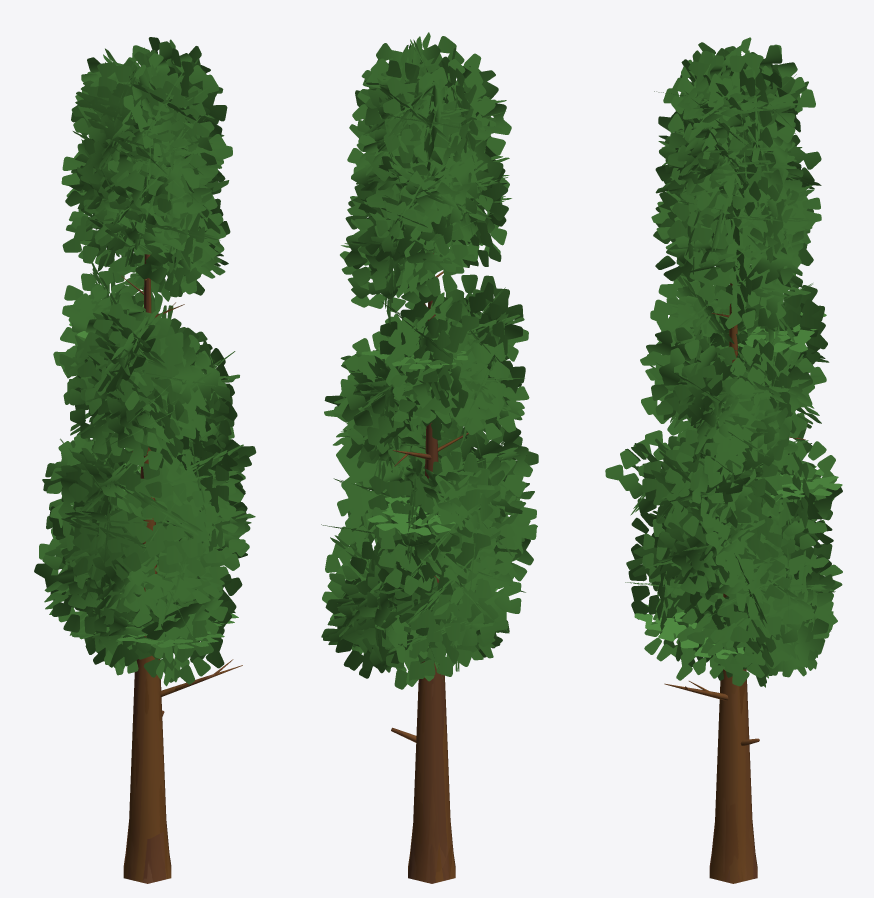
Rendered from columnar_02.glb.
3 views of the same model, side by side, from view 1: azimuth 30°, elevation 25°; view 2: azimuth 150°, elevation 25°; view 3: azimuth 270°, elevation 25° (orthographic).
Visible parts, largest first — view 1: columnar_02; view 2: columnar_02; view 3: columnar_02.
Part boxes in pixels (x1,y1,x2,y2): columnar_02: (34,37,256,883); columnar_02: (321,32,538,883); columnar_02: (605,37,842,883).
Size of the model in its own units: 4.01 by 14.29 by 4.14.
Materials: 2 (2 with a texture image).
